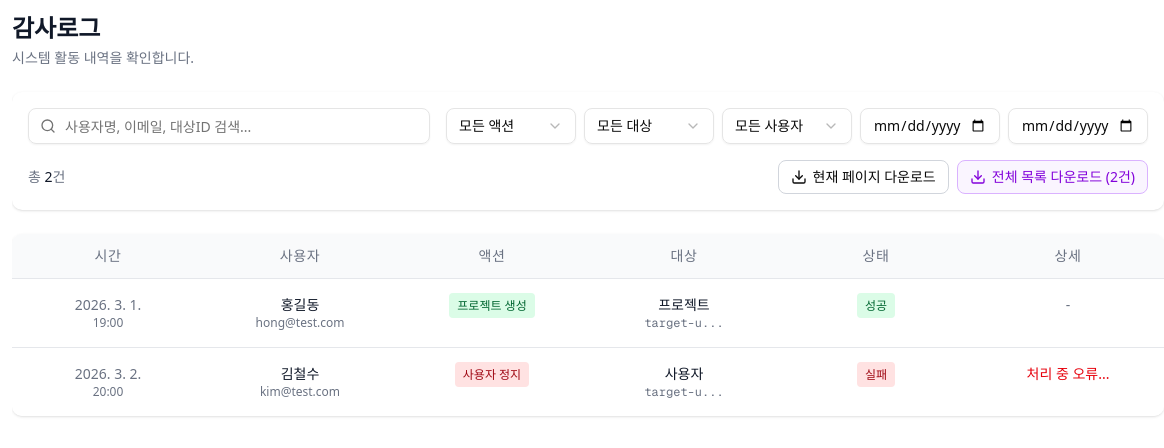
Test case: AuditLogClient › 검색 기능 › 검색 결과가 없으면 건수 정보를 표시한다
Type "존재하지않는사람xyz" into the field with placeholder "사용자명, 이메일, 대상ID 검색..." at (229, 126), box left=28, top=108, right=430, bottom=144
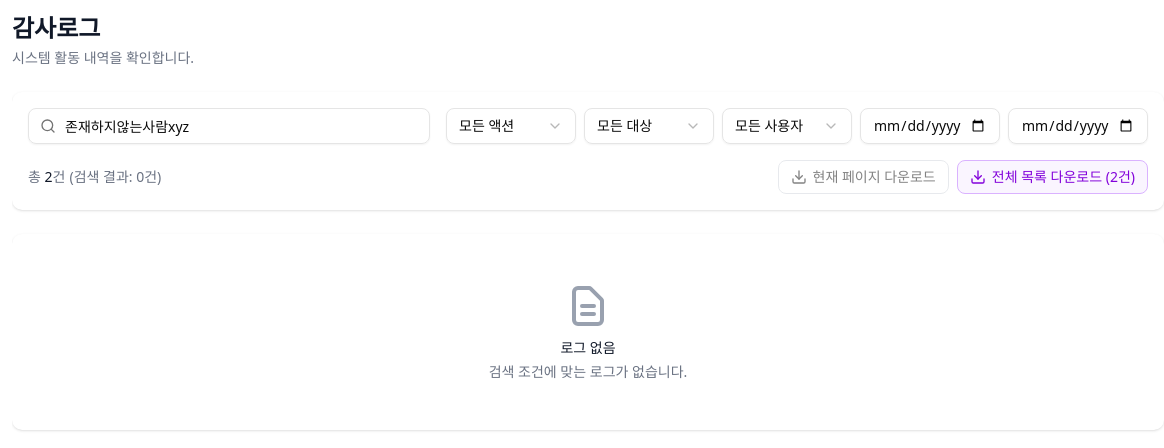
Expected: the heading "로그 없음" is shown, left=560, top=338, right=616, bottom=357
